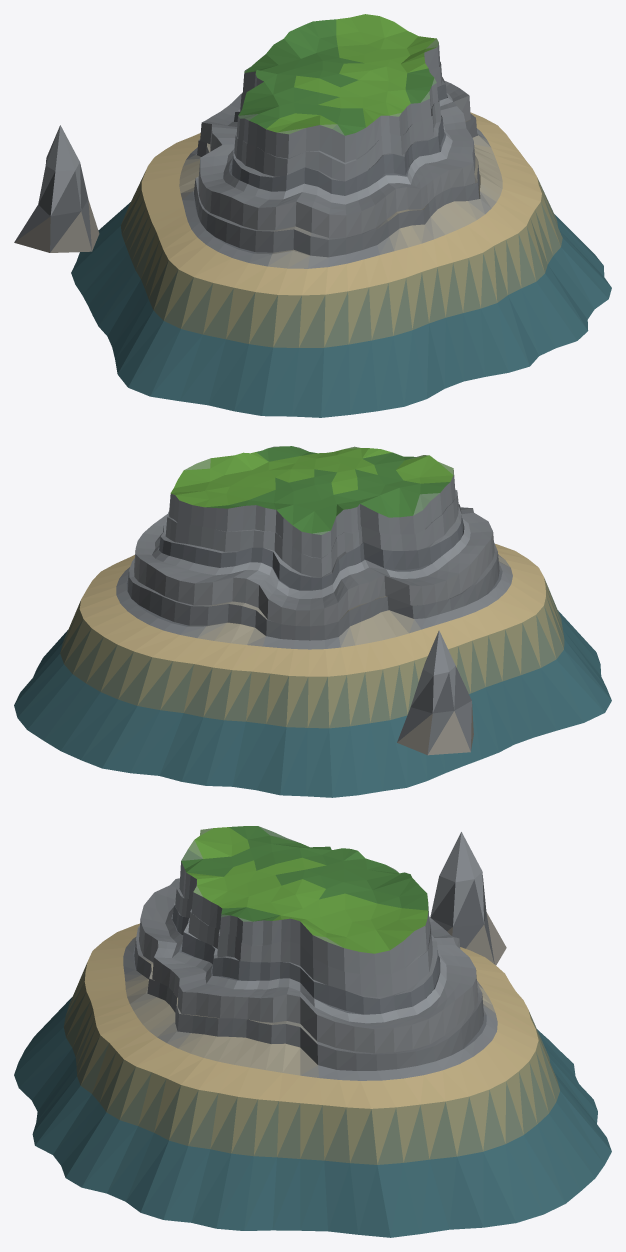
The model's file is islet_03.glb.
3 views of the same model, one above another, from view 1: azimuth 30°, elevation 25°; view 2: azimuth 150°, elevation 25°; view 3: azimuth 270°, elevation 25° (orthographic). The views are drawn at different scales.
Parts seen in each view (by area): view 1: islet_03; view 2: islet_03; view 3: islet_03.
Boxes of the visible parts, left/top/right/bottom form: islet_03: left=14, top=14, right=611, bottom=417; islet_03: left=14, top=446, right=611, bottom=797; islet_03: left=14, top=826, right=611, bottom=1237.
Size of the model in its own units: 26.79 by 11.94 by 25.97.
